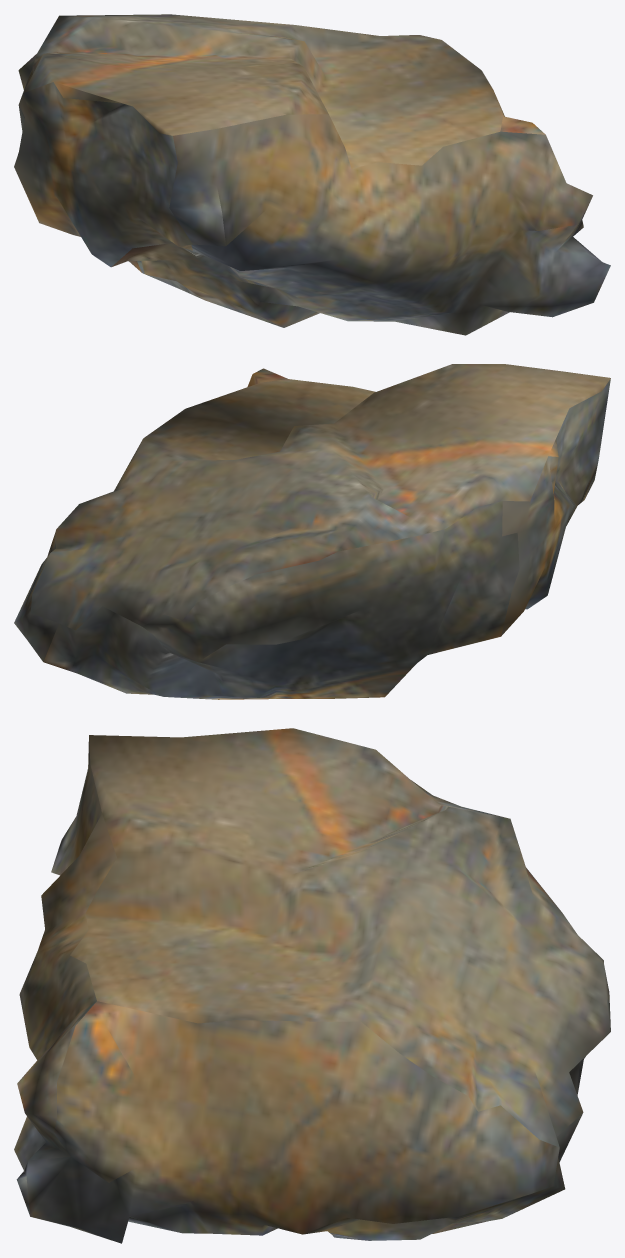
The model's file is Q_Rock_5.fbx.
3 renders of one model, top to bottom at view 1: azimuth 30°, elevation 25°; view 2: azimuth 150°, elevation 25°; view 3: azimuth 270°, elevation 25°, orthographic. The views are drawn at different scales.
Parts seen in each view (by area): view 1: Aset_rock_smooth_S_uglldgifa_02_LOD4; view 2: Aset_rock_smooth_S_uglldgifa_02_LOD4; view 3: Aset_rock_smooth_S_uglldgifa_02_LOD4.
Boxes of the visible parts, bbox=[...] form: Aset_rock_smooth_S_uglldgifa_02_LOD4: bbox=[14, 14, 610, 335]; Aset_rock_smooth_S_uglldgifa_02_LOD4: bbox=[14, 364, 610, 699]; Aset_rock_smooth_S_uglldgifa_02_LOD4: bbox=[14, 728, 610, 1243].
Size of the model in its own units: 7.03 by 4.02 by 7.02.
Materials: 1 (1 with a texture image).
